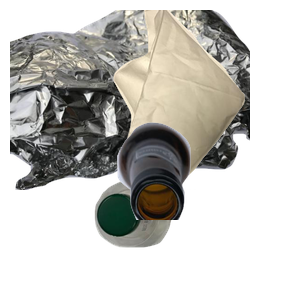glass: (115, 120, 300, 300)
metal: (10, 10, 250, 190)
plastic: (92, 176, 257, 300)
trash: (111, 10, 300, 190)
